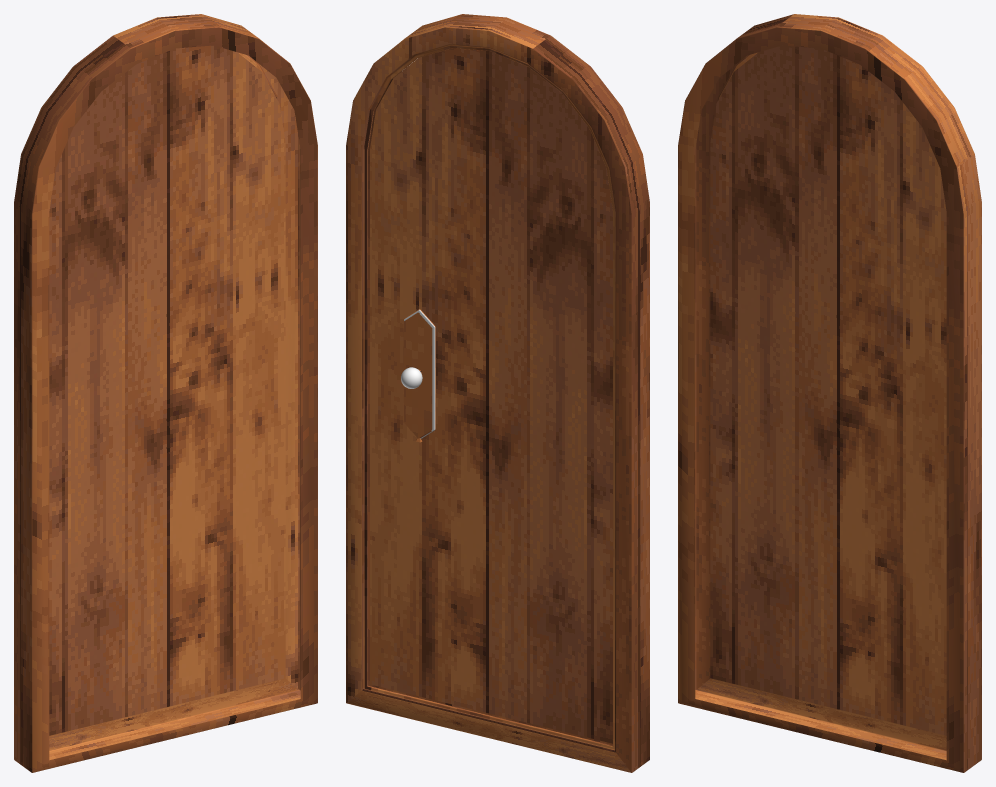
Rendered from tower_door.glb.
3 views of the same model, side by side, from view 1: azimuth 30°, elevation 25°; view 2: azimuth 150°, elevation 25°; view 3: azimuth 330°, elevation 25° (orthographic).
Visible parts, largest first — view 1: tower_door.001, tower_door; view 2: tower_door.001, tower_door; view 3: tower_door.001, tower_door.
Part boxes in pixels (x1,y1,x2,y2): tower_door.001: [49, 45, 285, 735]; tower_door: [14, 14, 317, 772]; tower_door.001: [370, 48, 612, 743]; tower_door: [346, 14, 649, 772]; tower_door.001: [710, 45, 946, 735]; tower_door: [678, 14, 981, 772].
Bounding box in the file's own units: 2.57 × 6.07 × 0.4471.
2 materials, 1 textured.
